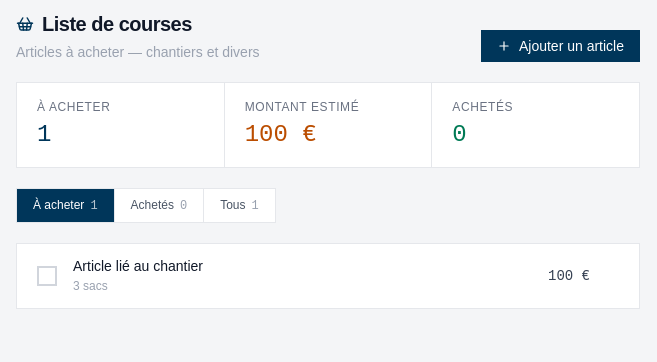
shopping-list UI matching Figma Make › persists a click on the article label and moves it to Achetés
Click the checkbox "Article lié au chantier" at (138, 266), box x1=73 y1=258 x2=203 y2=274
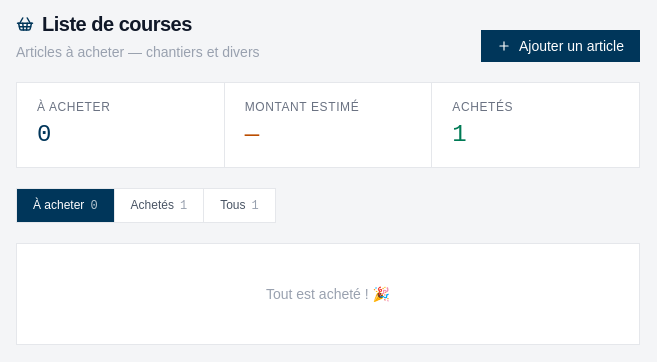
Check: the checkbox "Article lié au chantier" is gone
Click the button "Achetés1" at (159, 206), box x1=115 y1=189 x2=203 y2=222
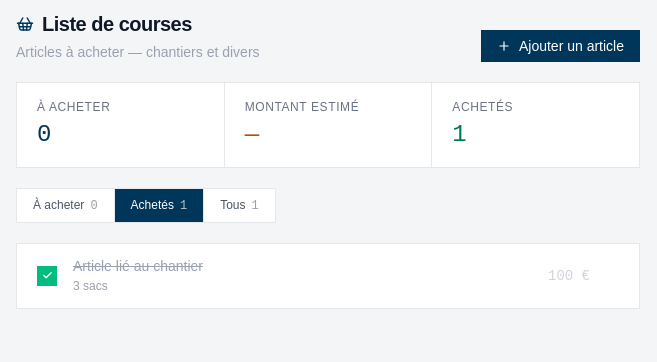
Check: the checkbox named "Marquer Article lié au chantier comme à acheter" is checked, box x1=37 y1=266 x2=57 y2=286
